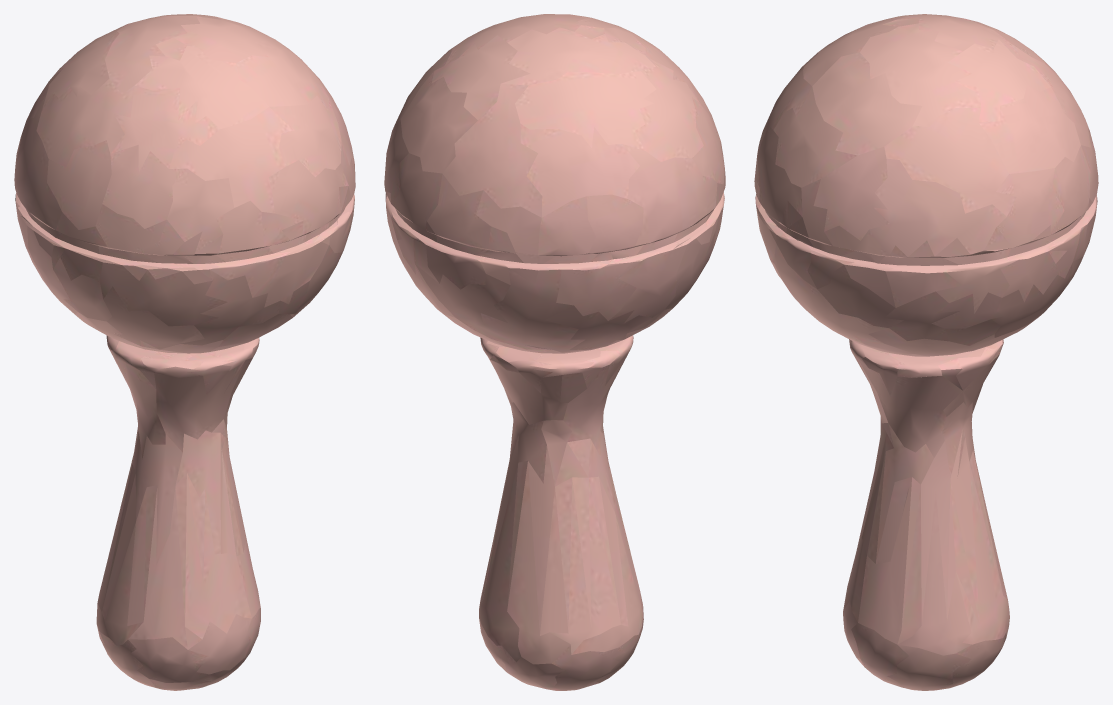
Rendered from shaker.d3ab6224.glb.
3 renders of one model, left to right at view 1: azimuth 30°, elevation 25°; view 2: azimuth 150°, elevation 25°; view 3: azimuth 270°, elevation 25°, orthographic.
Parts seen in each view (by area): view 1: output_unwrapped; view 2: output_unwrapped; view 3: output_unwrapped.
Part boxes in pixels (x1=…): output_unwrapped: x1=14, y1=14, x2=355, y2=690; output_unwrapped: x1=384, y1=14, x2=725, y2=690; output_unwrapped: x1=754, y1=14, x2=1098, y2=690.
Bounding box in the file's own units: 0.9055 × 1.9 × 0.9069.
Materials: 1 (1 with a texture image).
